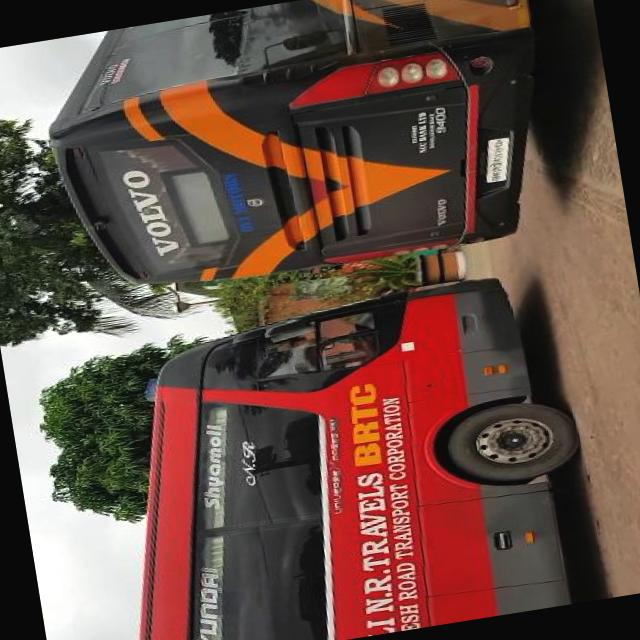bus: (79, 268, 599, 640), (28, 0, 566, 308)
